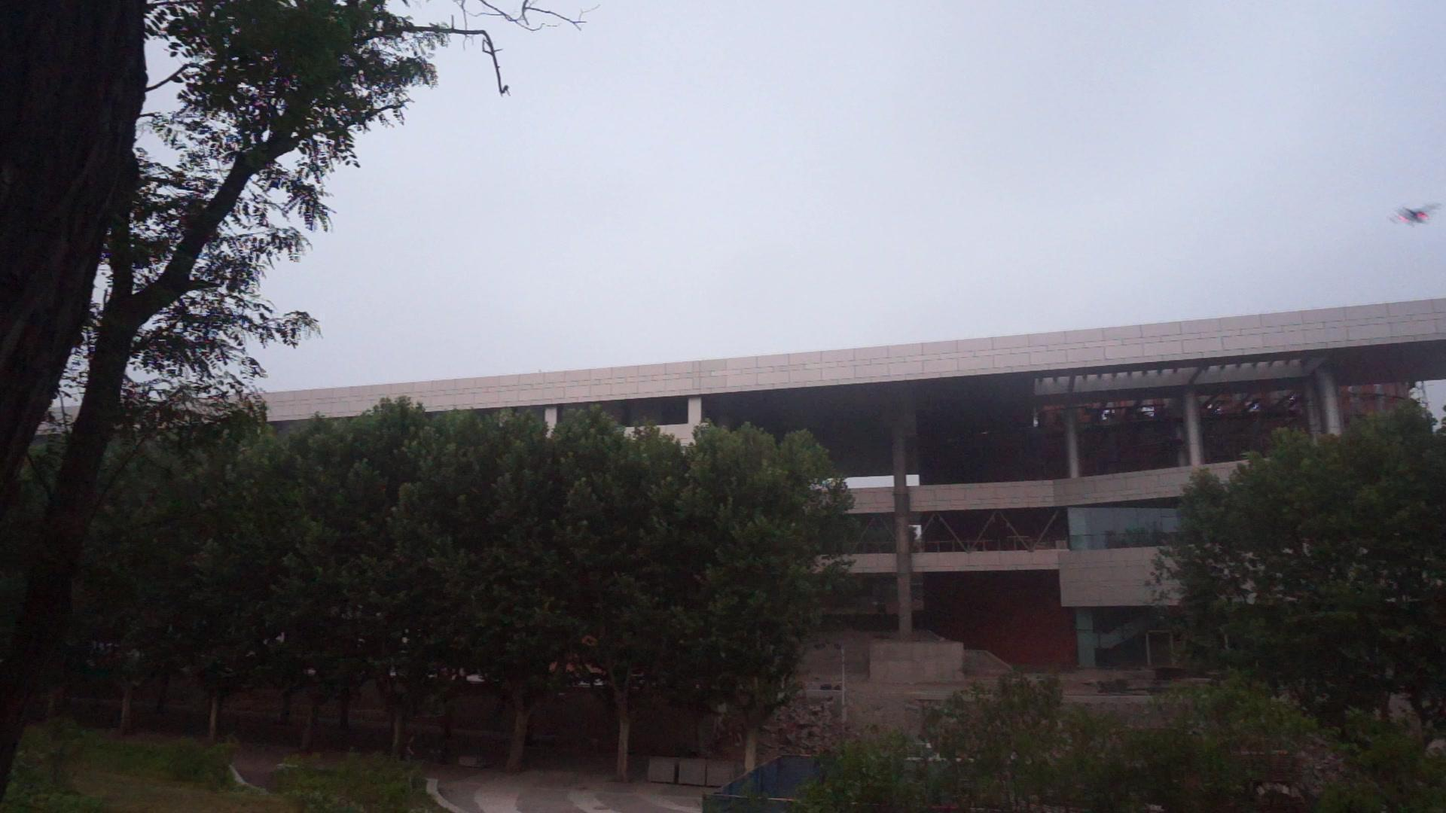UAV: (1390, 203, 1442, 227)
